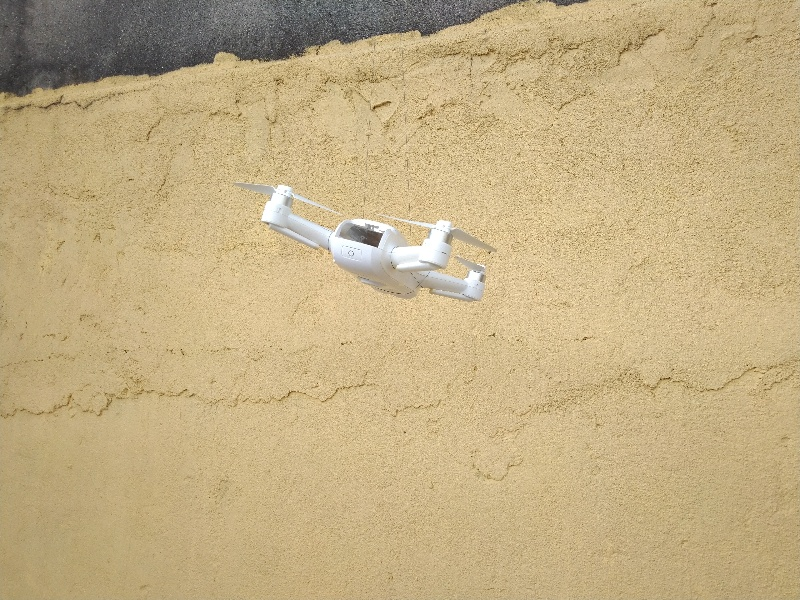drone: (234, 174, 514, 312)
